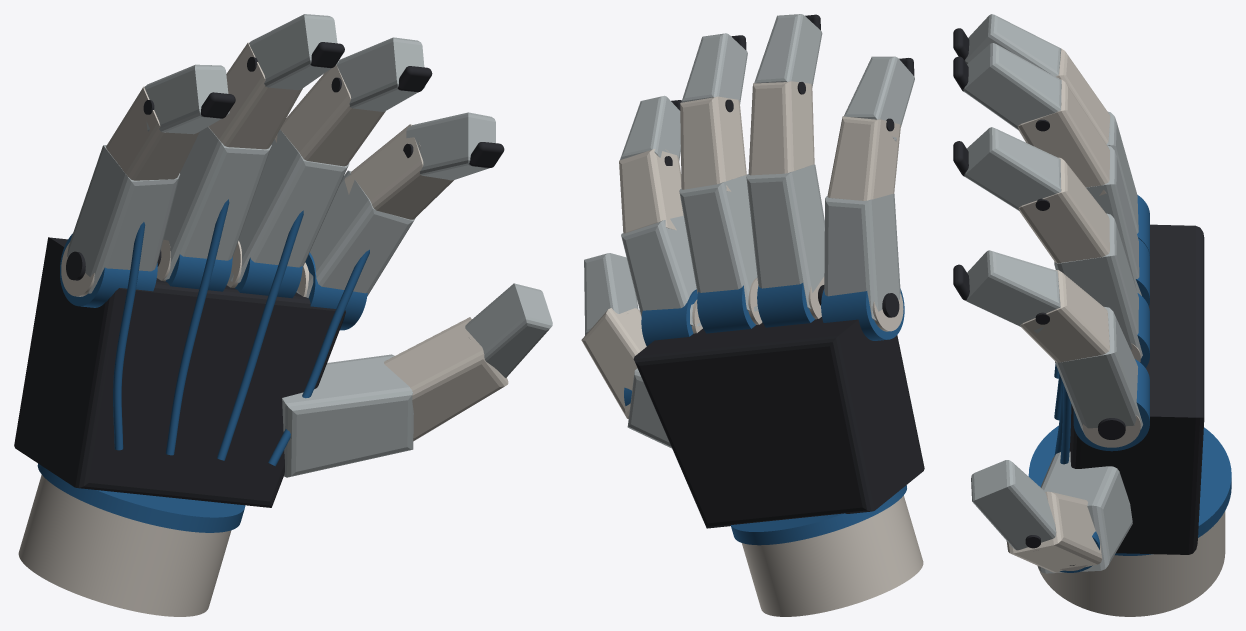
The model's file is anatomy-12.glb.
The picture shows the model from 3 angles, left to right: view 1: azimuth 30°, elevation 25°; view 2: azimuth 150°, elevation 25°; view 3: azimuth 270°, elevation 25°; orthographic projection. The views are drawn at different scales.
Parts seen in each view (by area): view 1: palm, proximal, thumb, wrist, middle, tips, knuckles, tendons, tip-pads; view 2: palm, proximal, middle, wrist, tips, knuckles, thumb, tip-pads; view 3: palm, tips, middle, thumb, proximal, wrist, knuckles, tip-pads, tendons, hinges.
Part boxes in pixels (box(x1,y1,x2,y2)): palm: box(14, 237, 345, 507); proximal: box(67, 127, 415, 297); thumb: box(282, 283, 552, 477); wrist: box(18, 463, 245, 616); middle: box(106, 42, 453, 219); tips: box(144, 14, 495, 180); knuckles: box(60, 233, 367, 330); tendons: box(113, 199, 369, 466); tip-pads: box(201, 42, 504, 167); palm: box(633, 317, 924, 528); proximal: box(621, 164, 900, 326); middle: box(619, 81, 900, 233); wrist: box(731, 485, 923, 616); tips: box(620, 14, 914, 160); knuckles: box(641, 276, 904, 346); thumb: box(581, 253, 671, 448); tip-pads: box(671, 14, 914, 110); palm: box(1069, 224, 1204, 554); tips: box(963, 14, 1061, 333); middle: box(1018, 48, 1110, 362); thumb: box(971, 451, 1132, 573); proximal: box(1054, 111, 1142, 437); wrist: box(1028, 425, 1231, 616); knuckles: box(1073, 195, 1149, 451); tip-pads: box(953, 28, 969, 300); tendons: box(1054, 364, 1071, 464); hinges: box(1035, 119, 1049, 324).
Bounding box in the file's own units: 1.4 × 1.85 × 0.7874.
